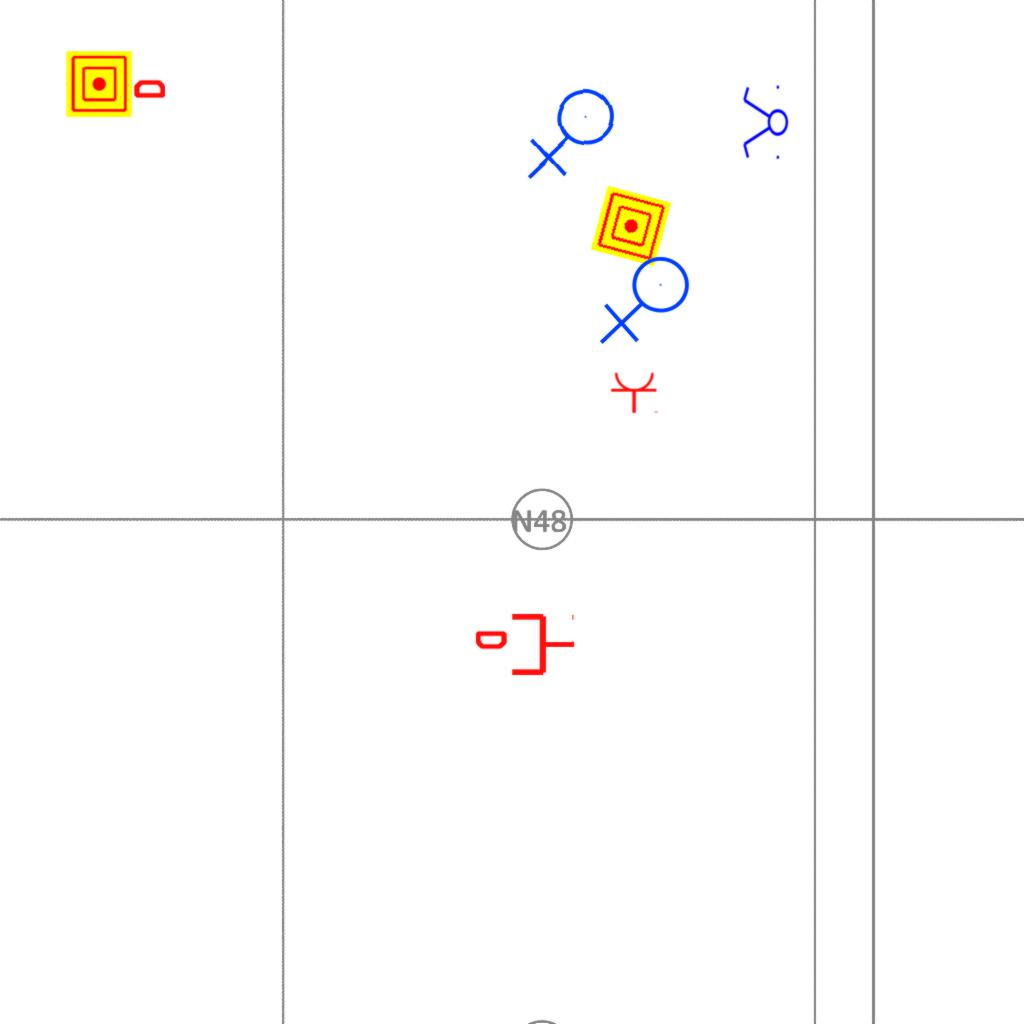Datenanschluss_einfach: (476, 610, 576, 679), (65, 50, 165, 119)
Elektroanschluss_allgemein_230V_Geraeteanschlussdose_230V: (522, 85, 627, 185), (599, 255, 698, 349)
NAM-Nichtautomatischer_Melder: (590, 185, 672, 267), (66, 51, 132, 117)
Schukosteckdose_einfach: (610, 371, 660, 414)
Serienschalter: (741, 81, 789, 165)
